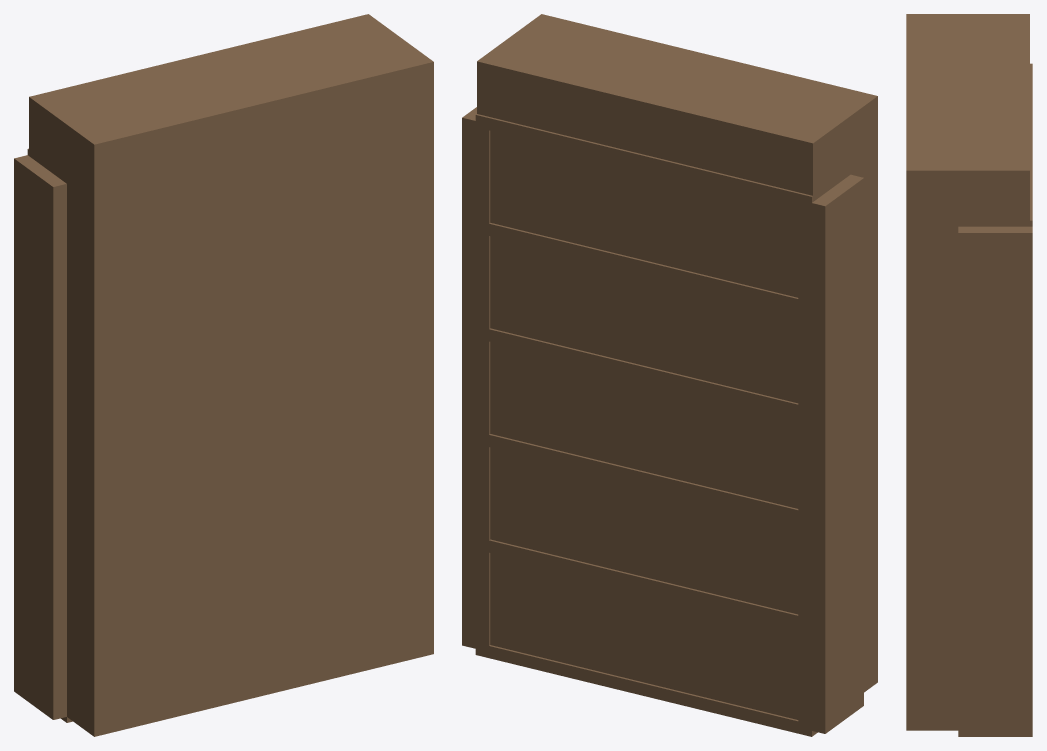
The picture shows the model from 3 angles, left to right: view 1: azimuth 30°, elevation 25°; view 2: azimuth 150°, elevation 25°; view 3: azimuth 270°, elevation 25°; orthographic projection. The views are drawn at different scales.
Parts seen in each view (by area): view 1: object 3, Cube; view 2: object 3, Cube, Cube.001, Cube.008, Cube.003, Cube.004, Cube.007, Cube.005, Cube.006; view 3: object 3, Cube.001, Cube.008.
Part boxes in pixels (bbox=[...]): object 3: bbox=[29, 14, 433, 736]; Cube: bbox=[14, 155, 66, 719]; object 3: bbox=[477, 14, 877, 719]; Cube: bbox=[798, 174, 863, 733]; Cube.001: bbox=[462, 107, 490, 651]; Cube.008: bbox=[475, 114, 812, 205]; Cube.003: bbox=[475, 645, 817, 736]; Cube.004: bbox=[475, 537, 798, 627]; Cube.007: bbox=[475, 221, 798, 311]; Cube.005: bbox=[475, 434, 805, 522]; Cube.006: bbox=[476, 326, 798, 416]; object 3: bbox=[906, 14, 1029, 730]; Cube.001: bbox=[958, 226, 1032, 736]; Cube.008: bbox=[1030, 64, 1032, 226].
Size of what is drawn, in the model's own units: 2.16 by 3.37 by 0.6802.
